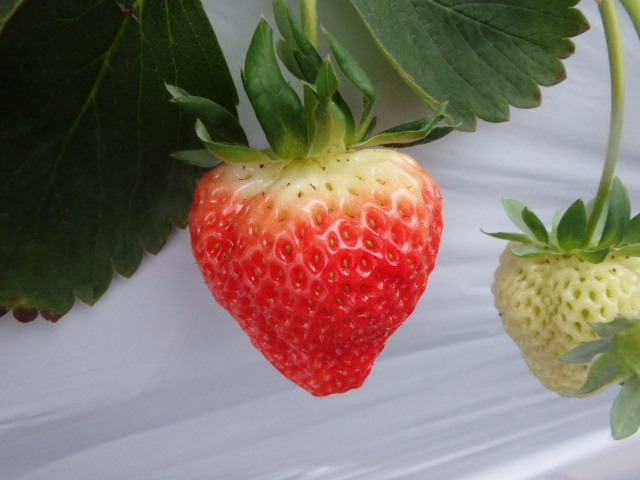ripe: (186, 142, 451, 407)
unripe: (489, 212, 636, 401)
